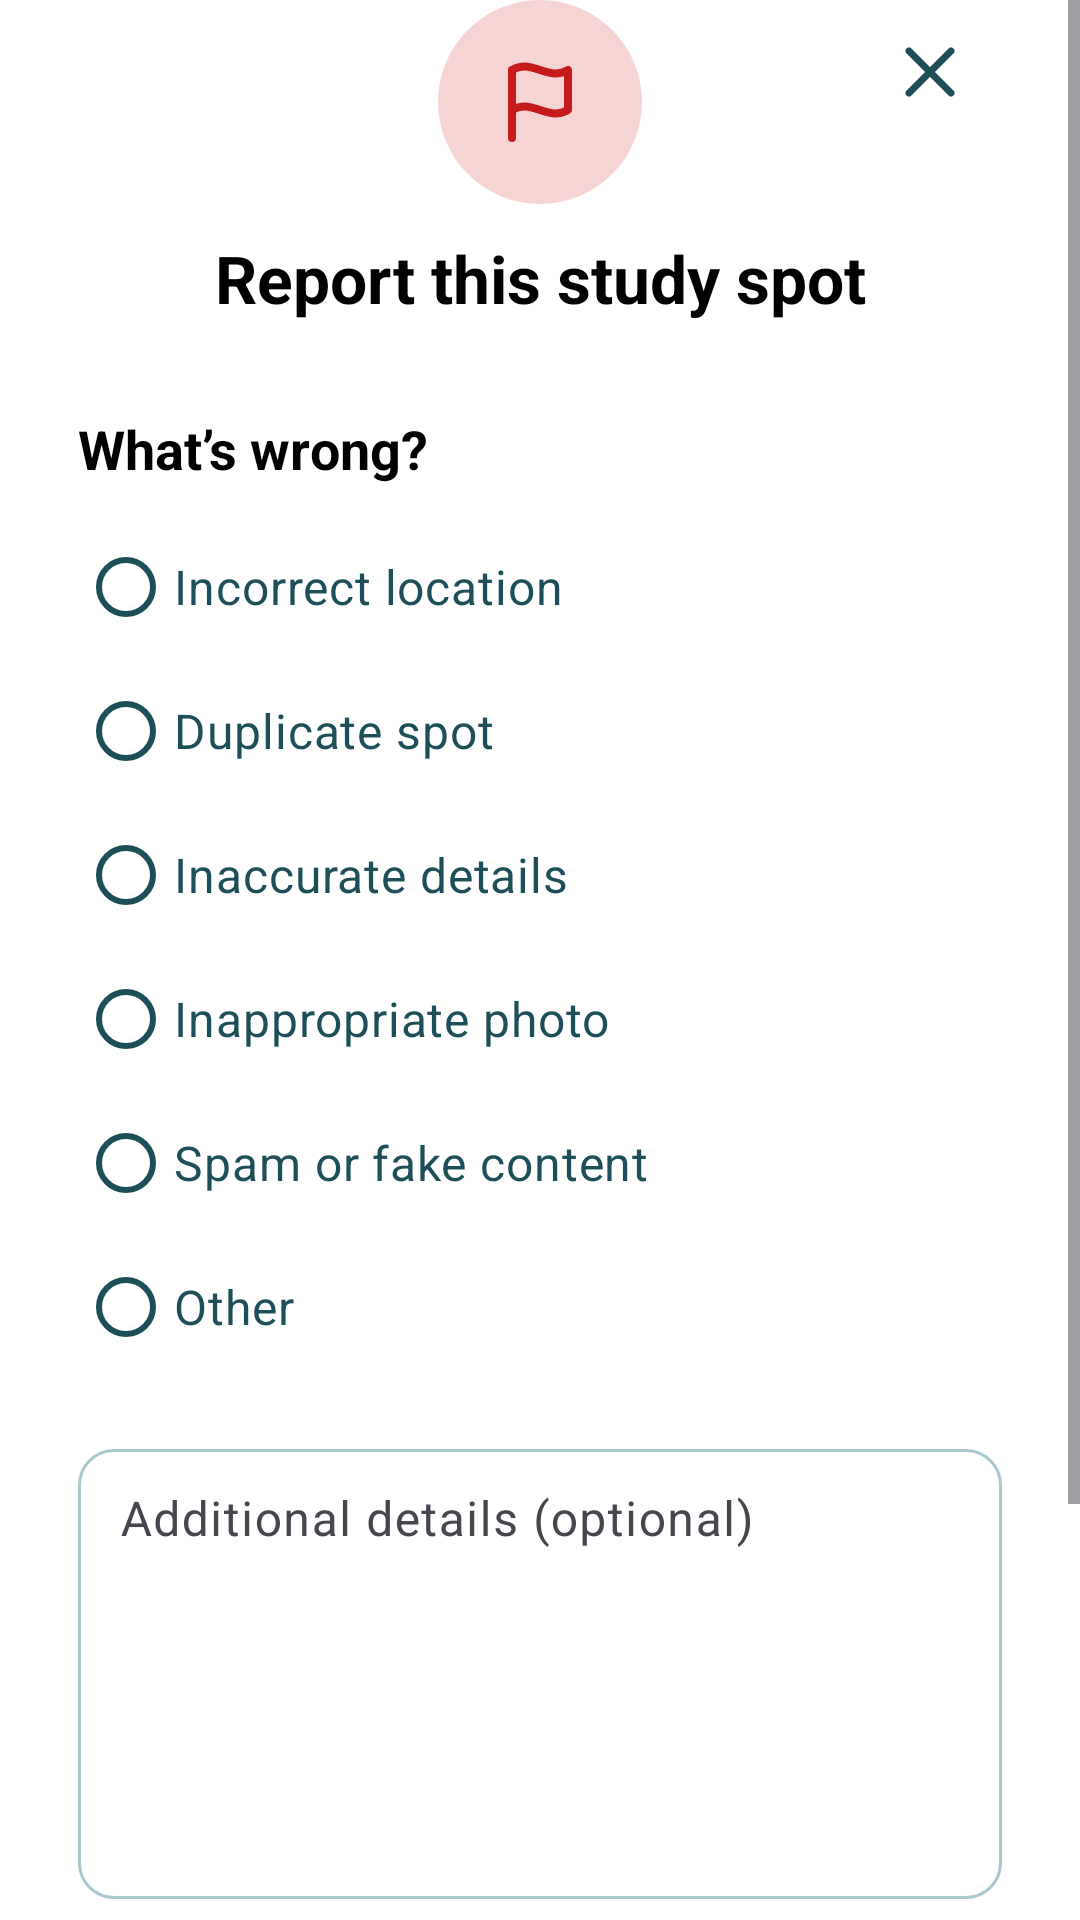

Where to tap for icons on this 1080*1920 app screen, as (x=x, y=y):
Close Report: (x=930, y=72)
